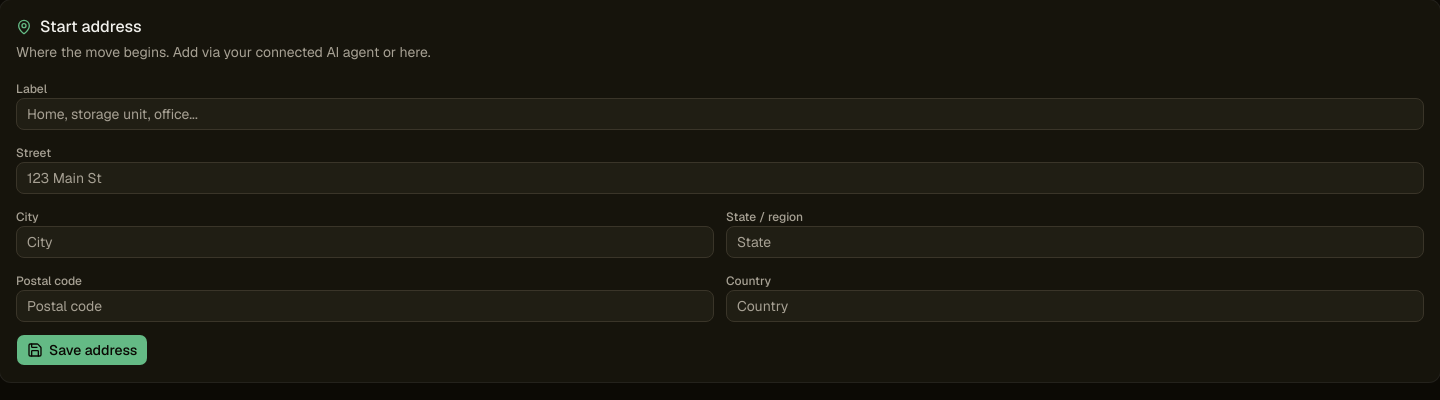
LocationConfigCard › shows a ConvexError message when address saving fails
In the field named "Start address label": (720, 114) [16,98,1424,130], type "Home"
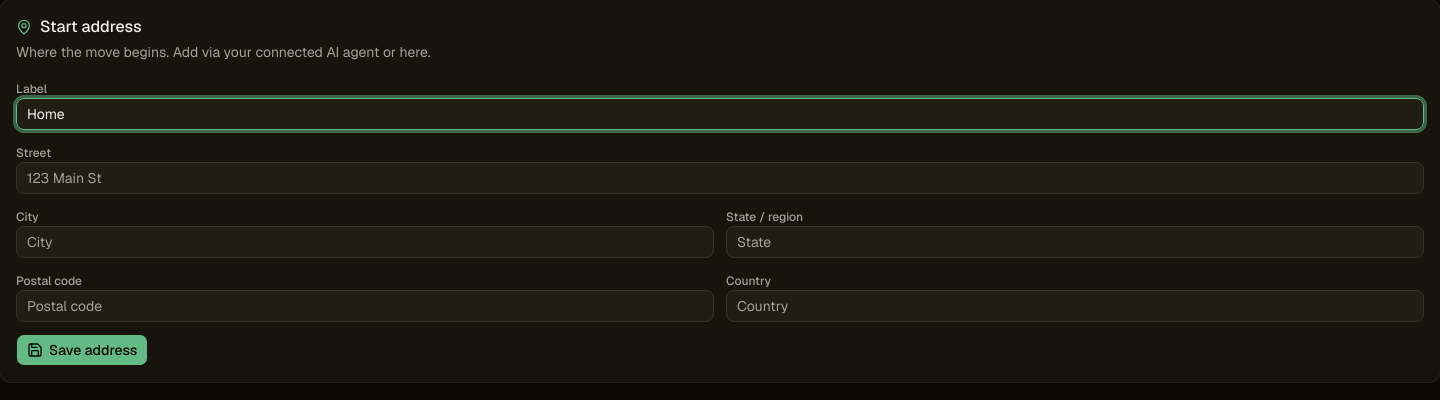
Click the button "Save address": (82, 350) [16,334,148,366]
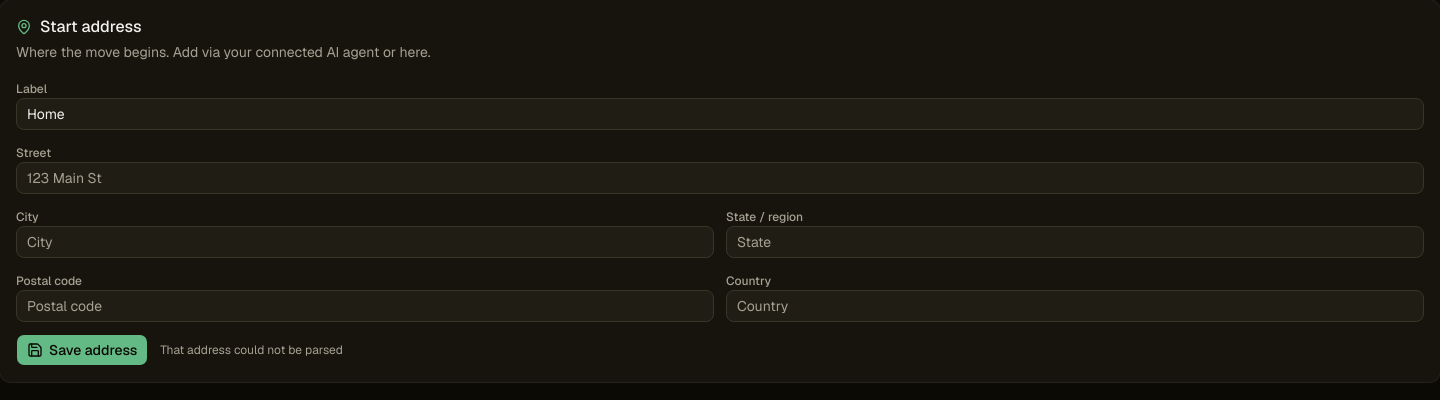
Expected: the message reads "That address could not be parsed", [160,342,343,358]
